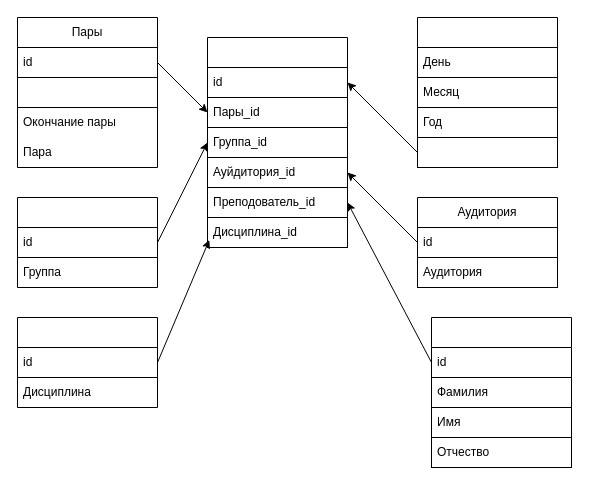
The diagram is 589 pixels wide and 485 high, and some of its shapes have lost their labels. Here are the shapes that lost their labels. From the top down, the box of each, then its label:
(16, 76, 158, 108): Начало пары
(416, 16, 558, 168): Даты
(206, 36, 348, 248): Расписание
(416, 136, 558, 168): Расписание_id
(16, 196, 158, 288): Группы
(16, 316, 158, 408): Дисциплины
(430, 316, 572, 468): Препожователи
